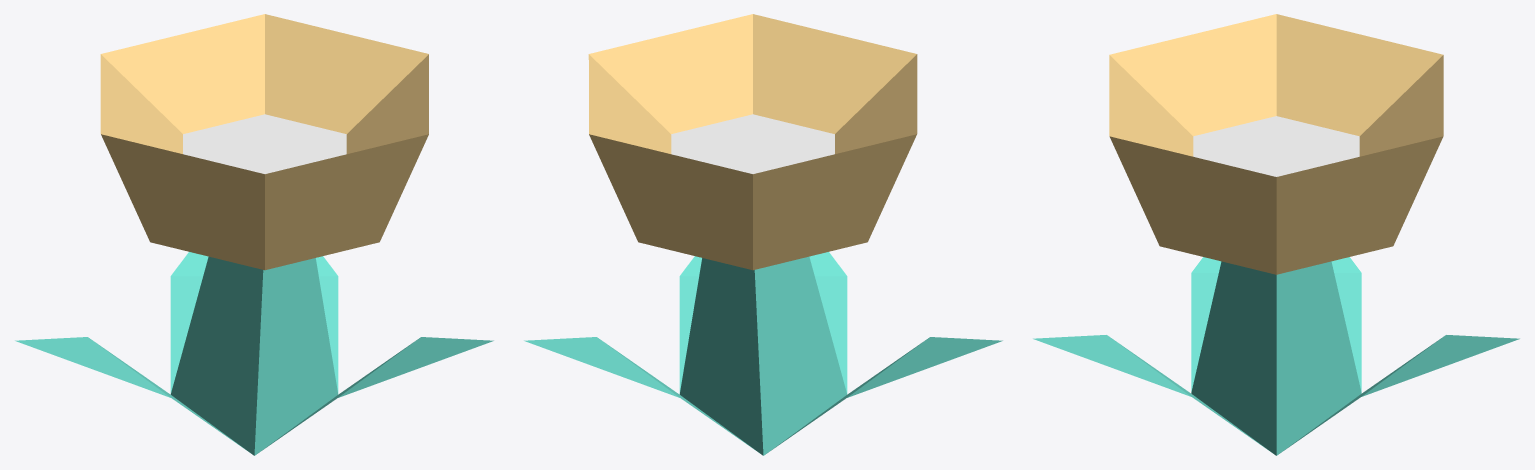
Rendered from flower_yellowC.glb.
3 views of the same model, side by side, from view 1: azimuth 30°, elevation 25°; view 2: azimuth 150°, elevation 25°; view 3: azimuth 270°, elevation 25° (orthographic).
Visible parts, largest first — view 1: flower_yellowC; view 2: flower_yellowC; view 3: flower_yellowC.
Part boxes in pixels (x1,y1,x2,y2): flower_yellowC: [15, 14, 493, 455]; flower_yellowC: [524, 14, 1002, 455]; flower_yellowC: [1033, 14, 1519, 455].
Bounding box in the file's own units: 0.1806 × 0.1325 × 0.1811.
